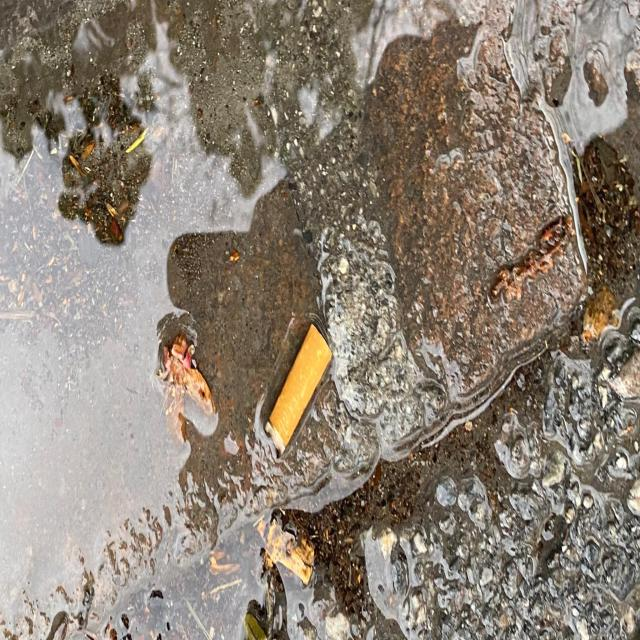other waste: (264, 322, 333, 459)
